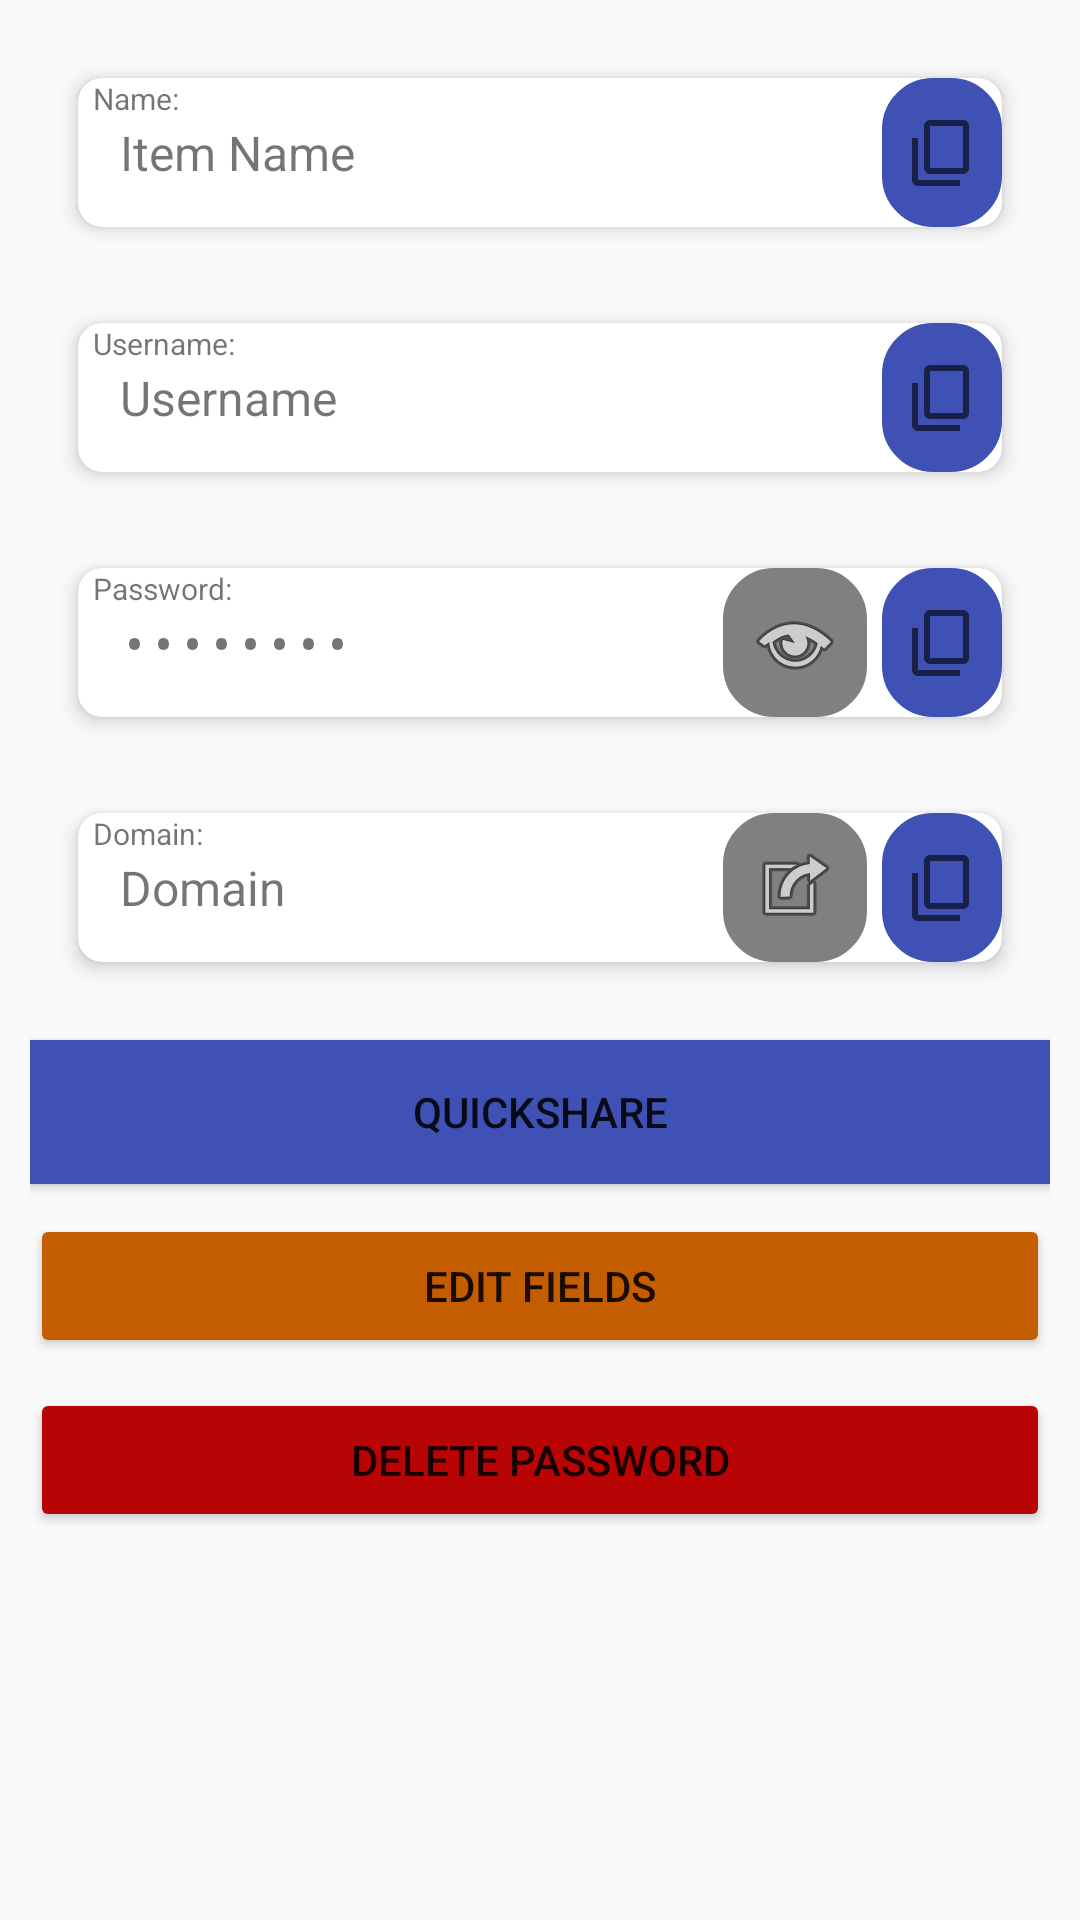

Icon bounding boxes for this 1080*1920 phone screenshot, format [x1, y1, x2, y2]:
view: [723, 568, 867, 717]
